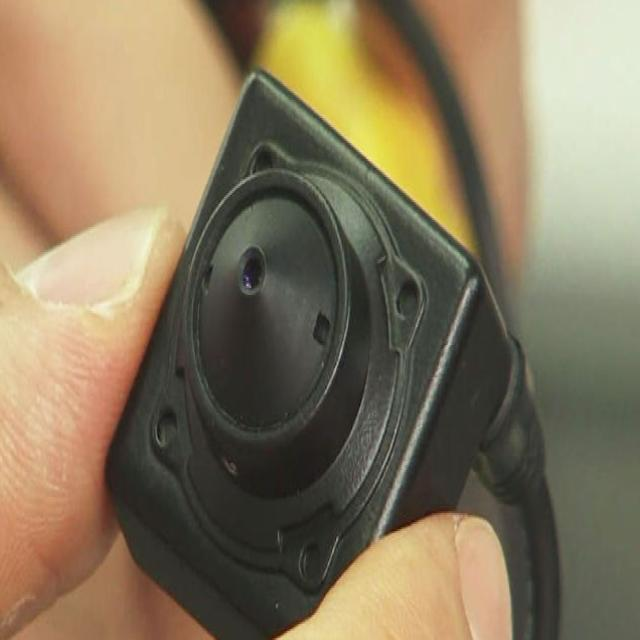hidden camera: (241, 251, 266, 294)
